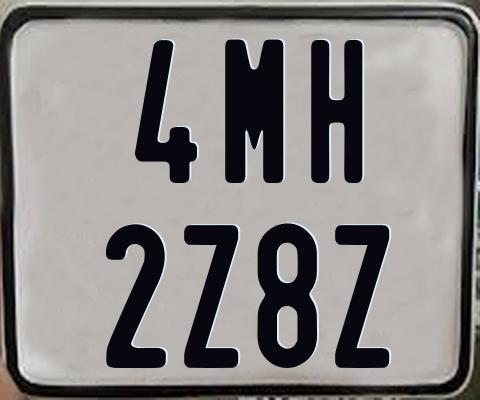2: (106, 223, 171, 371)
4: (134, 37, 197, 181)
8: (254, 222, 320, 371)
H: (311, 38, 366, 183)
M: (223, 39, 286, 183)
Z: (183, 225, 238, 373), (332, 222, 387, 365)
